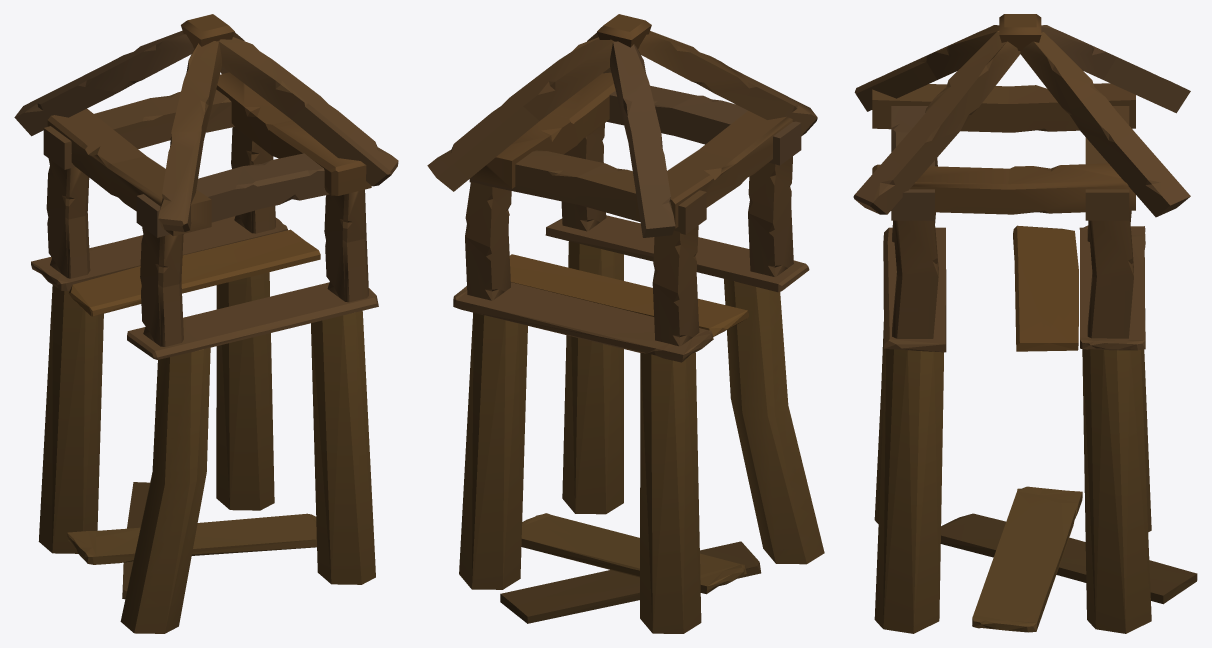
File: Tower0.fbx
The picture shows the model from 3 angles, left to right: view 1: azimuth 30°, elevation 25°; view 2: azimuth 150°, elevation 25°; view 3: azimuth 270°, elevation 25°; orthographic projection. The views are drawn at different scales.
Parts seen in each view (by area): view 1: TowerFix.029; view 2: TowerFix.029; view 3: TowerFix.029.
Part boxes in pixels (x1,y1,x2,y2): TowerFix.029: (14,14,398,633); TowerFix.029: (427,14,824,633); TowerFix.029: (853,14,1197,633).
Size of the model in its own units: 408 by 809 by 452.
